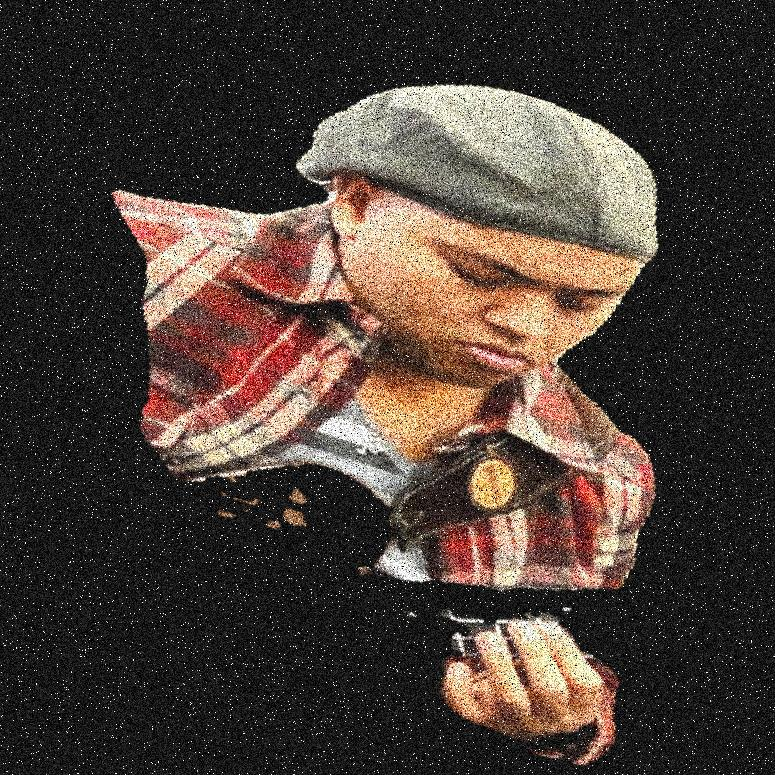Pessoa: (307, 0, 643, 774)
